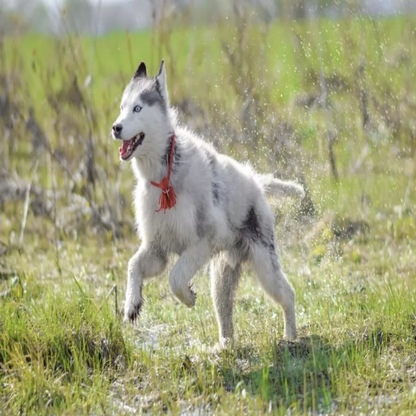husky: (107, 57, 310, 350)
